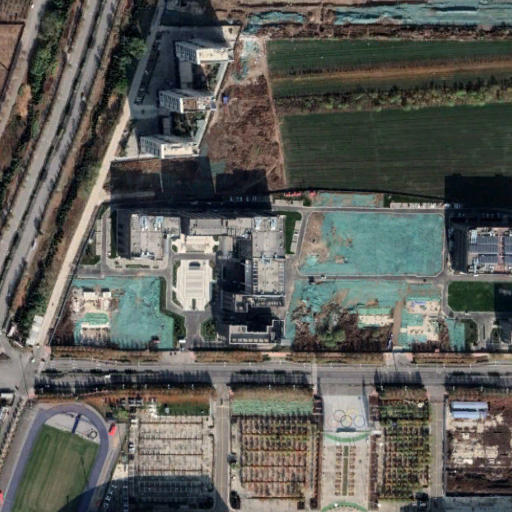cw: (287, 192, 468, 351), (69, 274, 178, 349), (243, 5, 512, 31)
